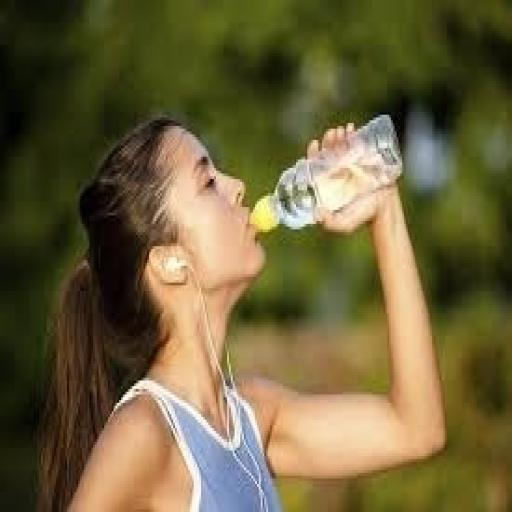drinking: (248, 112, 402, 235)
